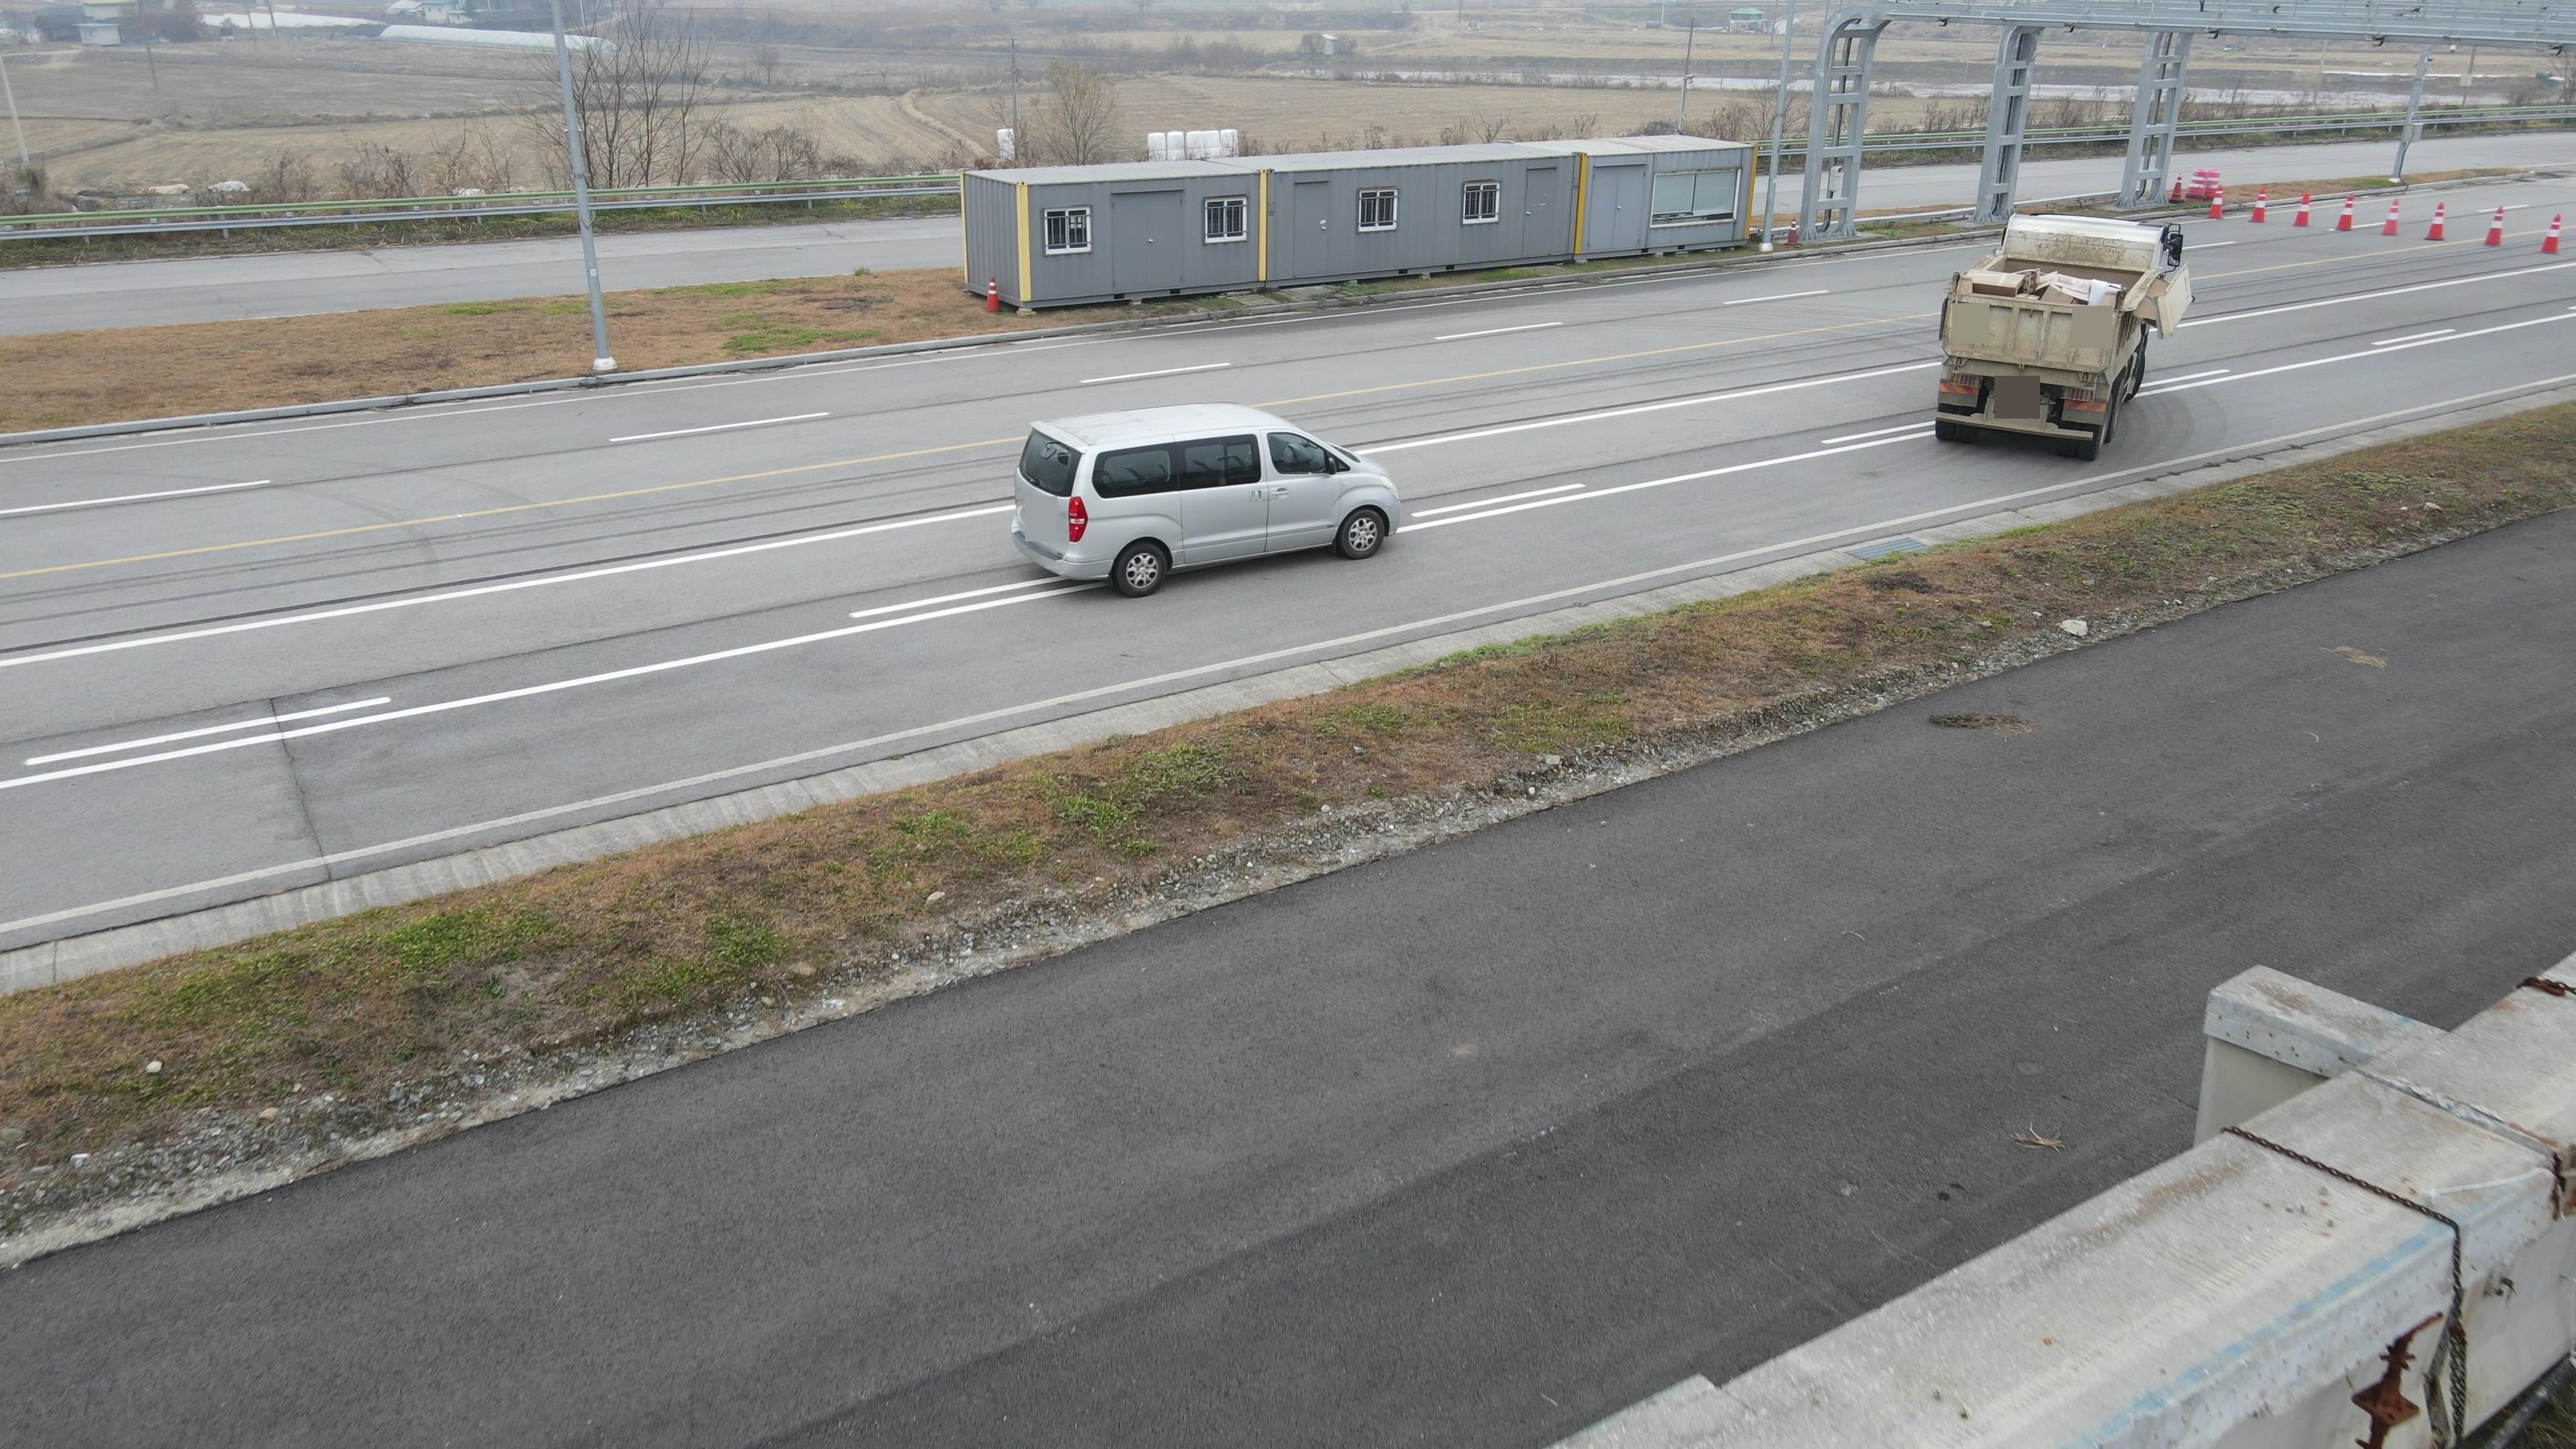불법차량: (1935, 211, 2194, 461)
